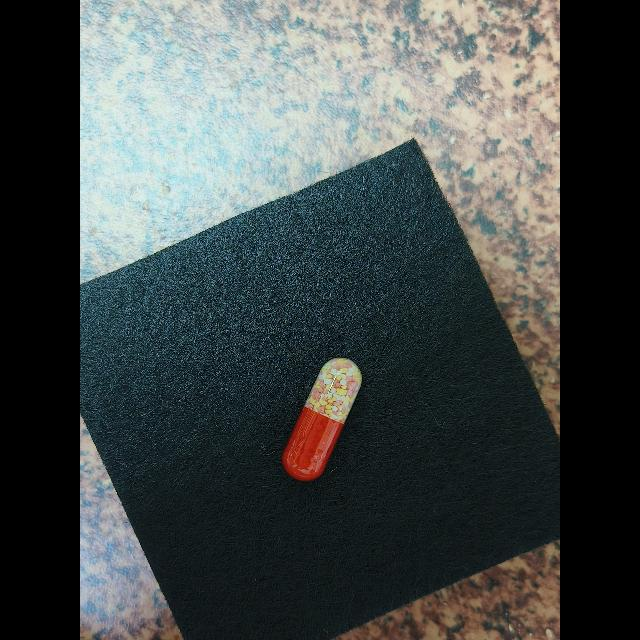Intact Capsule: (282, 358, 362, 481)
